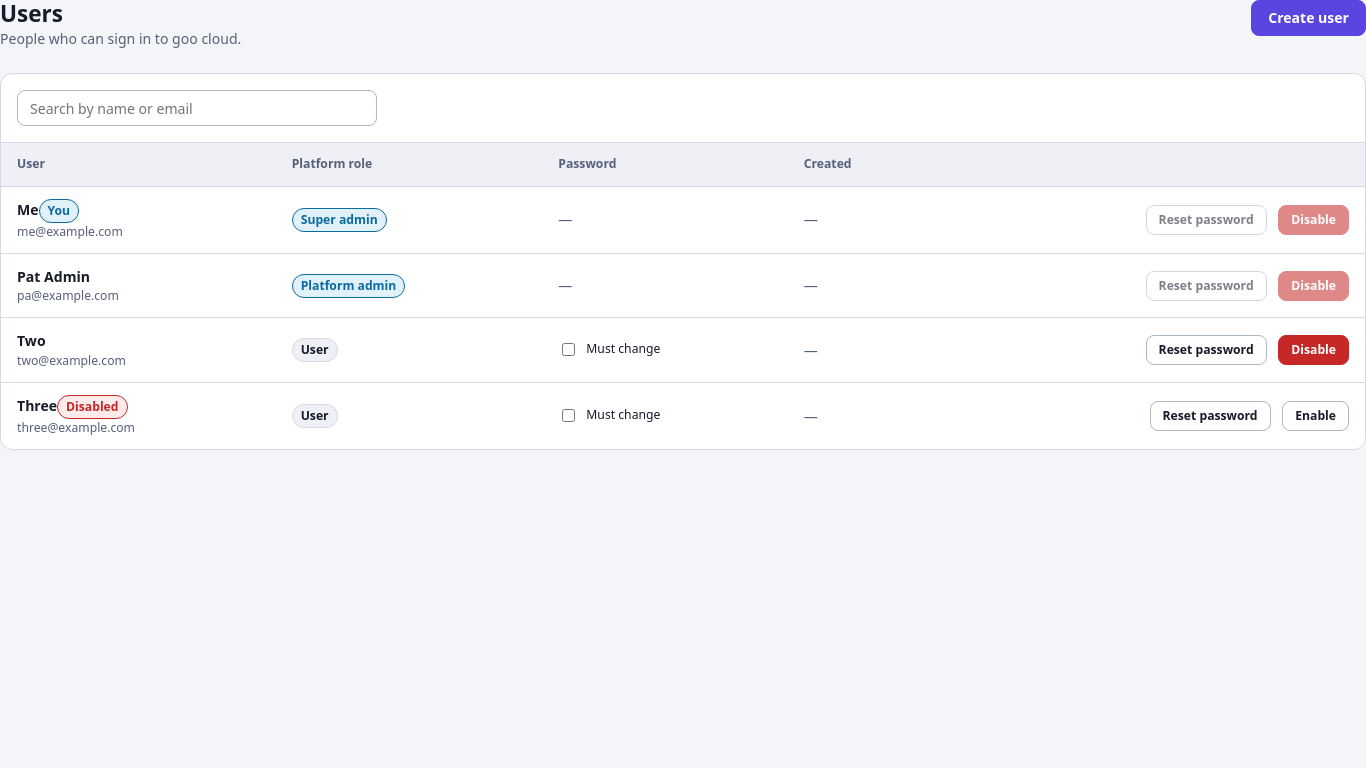
Test case: UsersPage role-based UI › disable / enable › disable asks for confirmation, then PATCHes {disabled:true} and shows the badge
Click the button with aria-label "Disable two@example.com": (1314, 350) [1278, 335, 1349, 365]
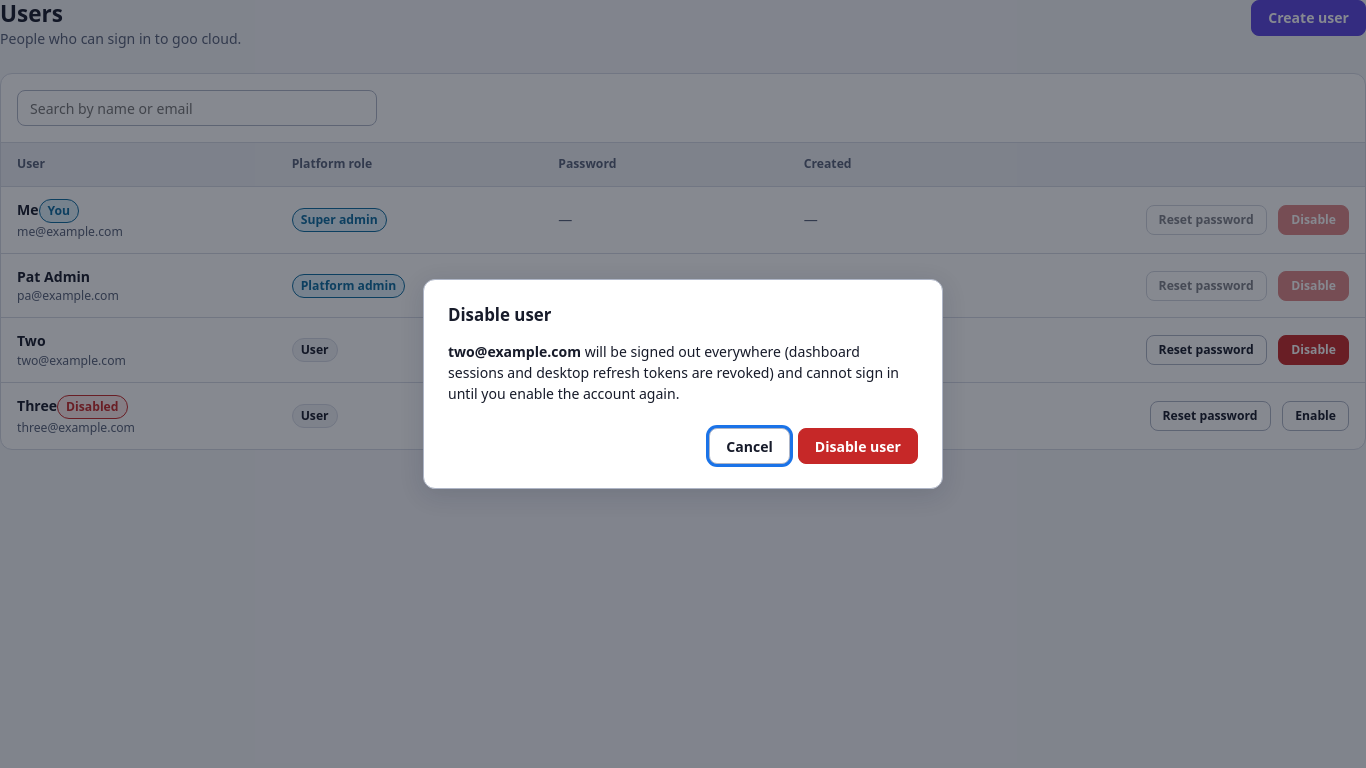
Expected: the text "signed out everywhere" is shown, [448, 342, 899, 403]
Click the button "Disable user": (858, 446) [798, 428, 918, 464]
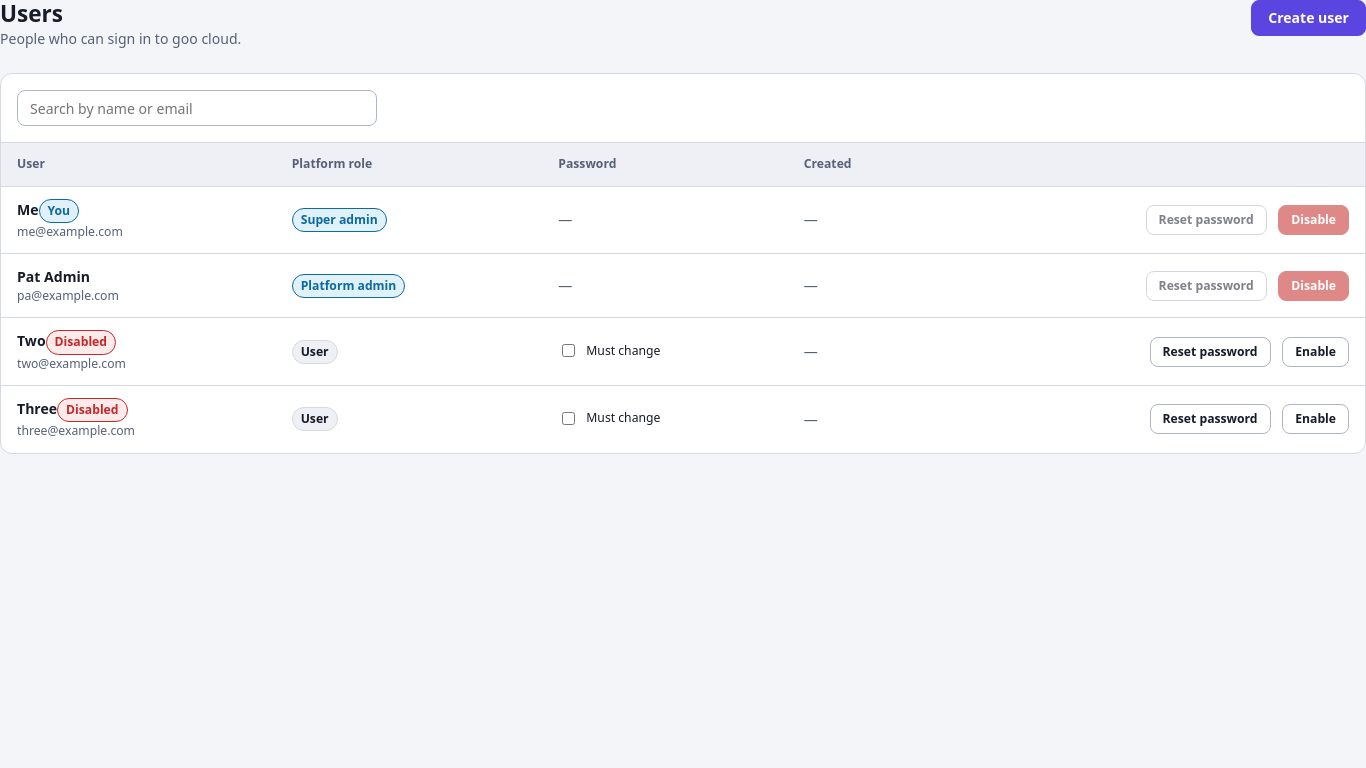
Expected: the 1st text "Disabled" is shown, [46, 330, 116, 355]
